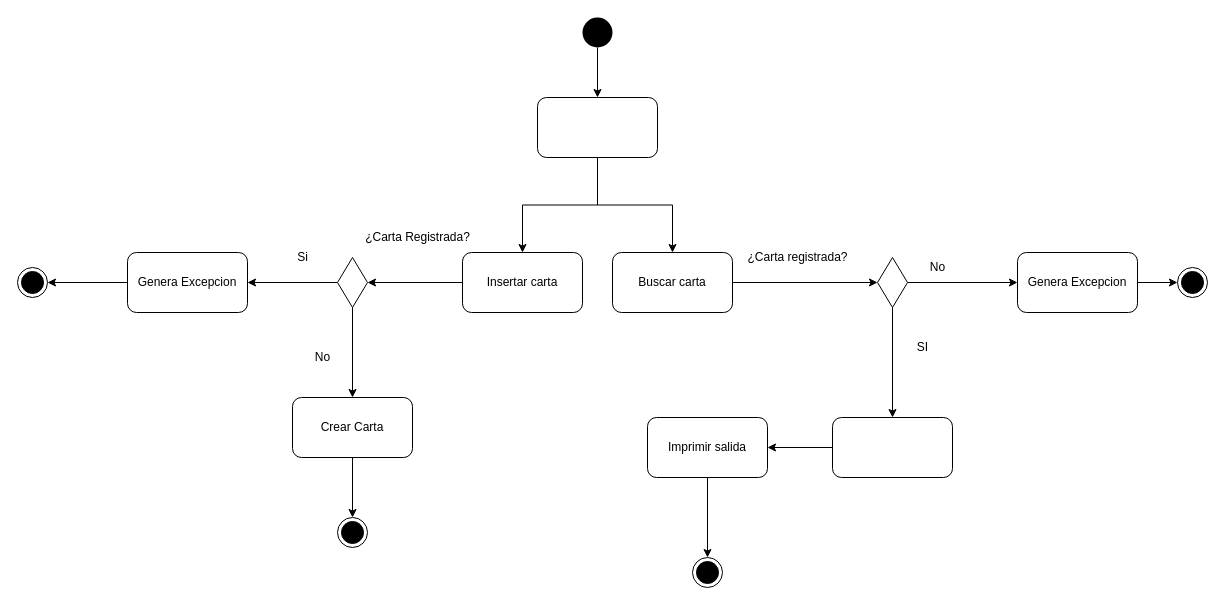
This 1225x605 diagram has some shape labels left out. Each missing label, with the box of its shape:
Buscar en BD: (832, 416, 952, 478)
Recibir datos: (536, 96, 658, 158)
